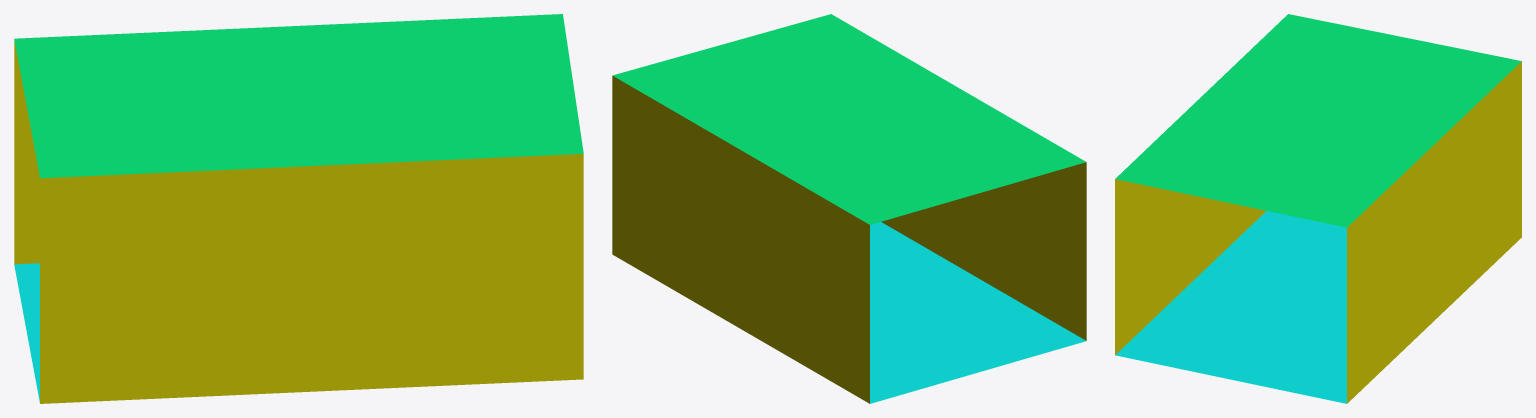
File: FantasyF-Corridor-NeutralR.fbx
The picture shows the model from 3 angles, left to right: view 1: azimuth 30°, elevation 25°; view 2: azimuth 150°, elevation 25°; view 3: azimuth 270°, elevation 25°; orthographic projection. The views are drawn at different scales.
Visible parts, largest first — view 1: Museum_complete_Blockout:Corridor2; view 2: Museum_complete_Blockout:Corridor2; view 3: Museum_complete_Blockout:Corridor2.
Part boxes in pixels (left/top/right/bottom): Museum_complete_Blockout:Corridor2: left=14, top=14, right=583, bottom=403; Museum_complete_Blockout:Corridor2: left=612, top=14, right=1086, bottom=403; Museum_complete_Blockout:Corridor2: left=1115, top=14, right=1521, bottom=403.
Bounding box in the file's own units: 2675 × 1029 × 2152.
